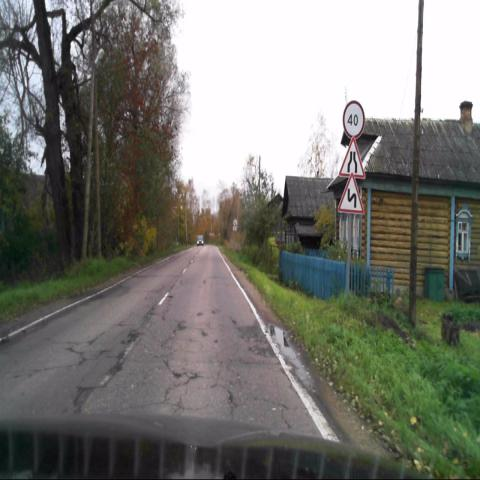1_12_2: (337, 173, 363, 213)
1_20: (340, 137, 366, 179)
